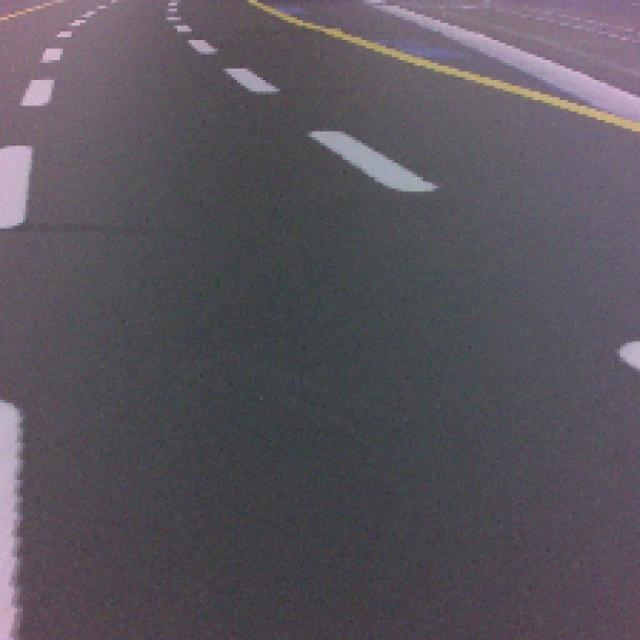Road: (17, 353, 638, 637)
